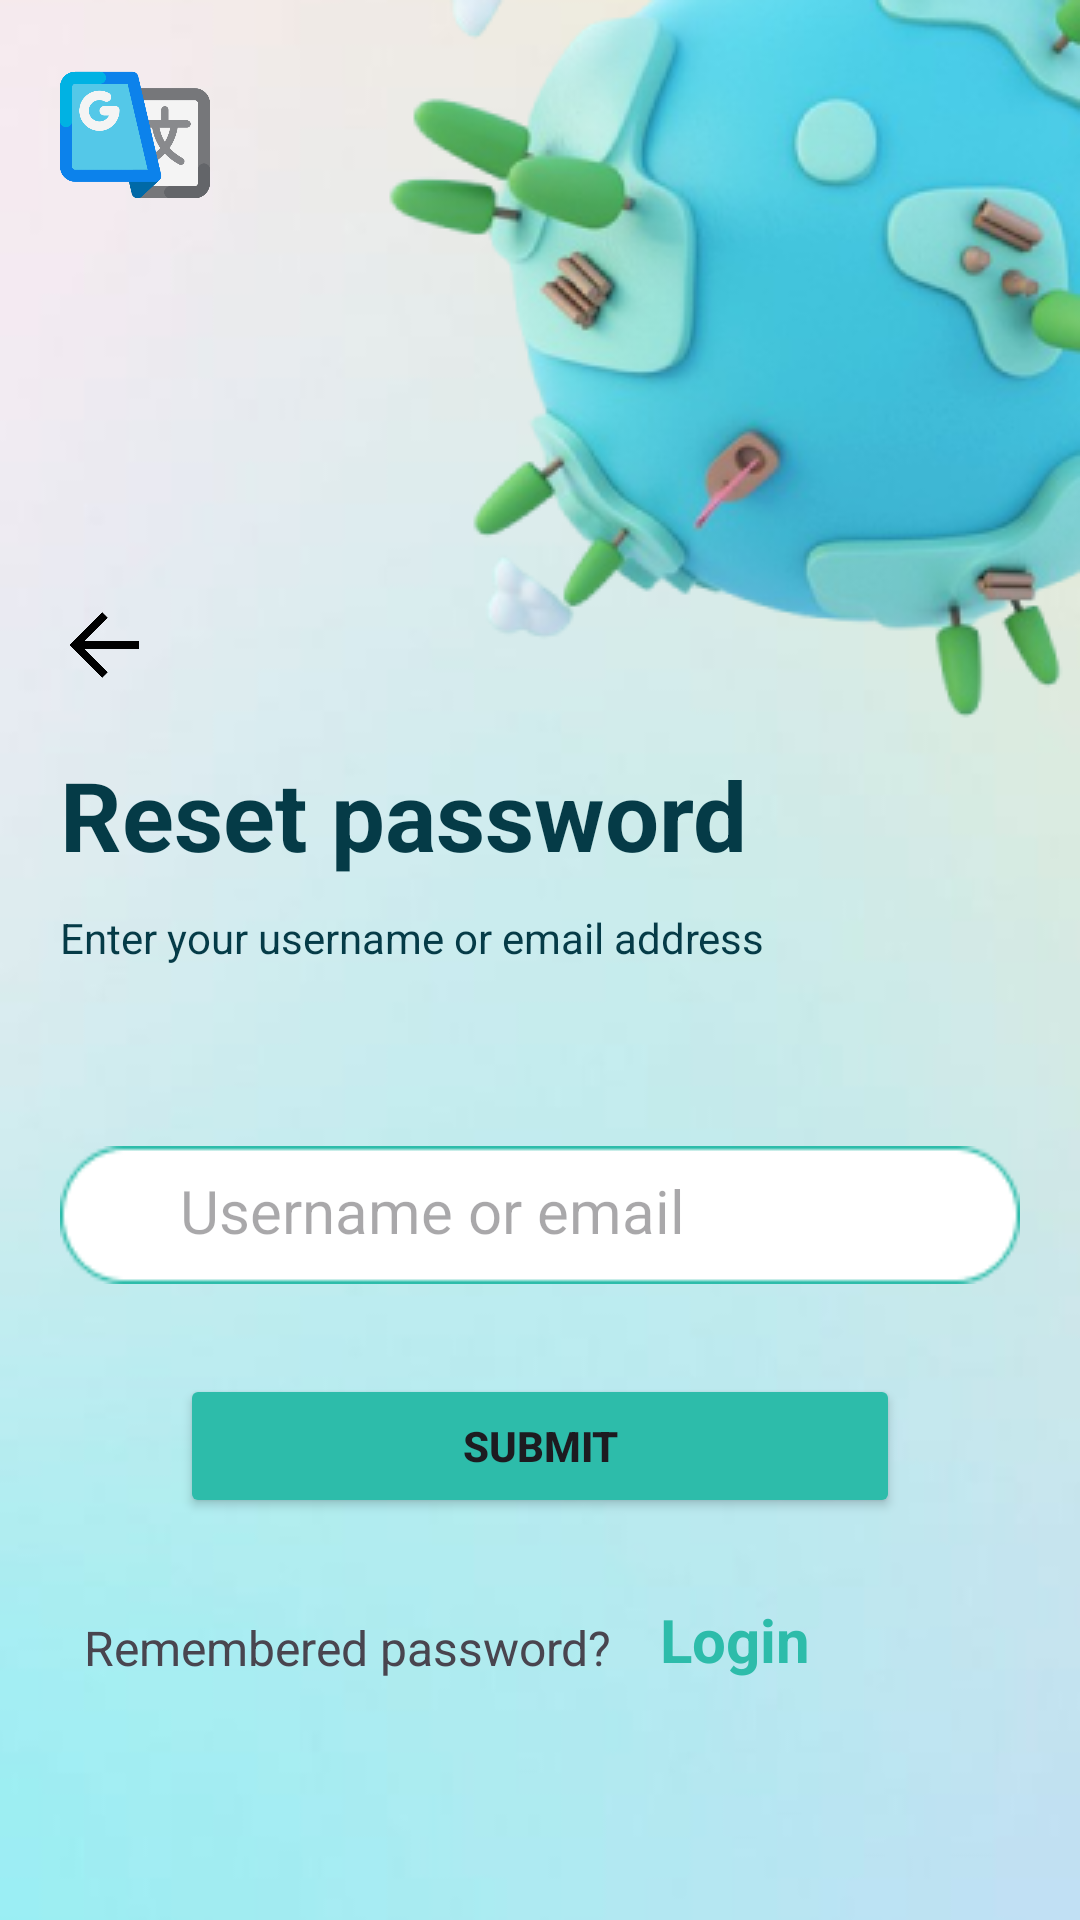

Where icons sit on this 1080w x 1920h app screen, as (x1=x1, y1=y1, x2=x2, y2=y2):
left arrow: (x1=70, y1=612, x2=139, y2=678)
